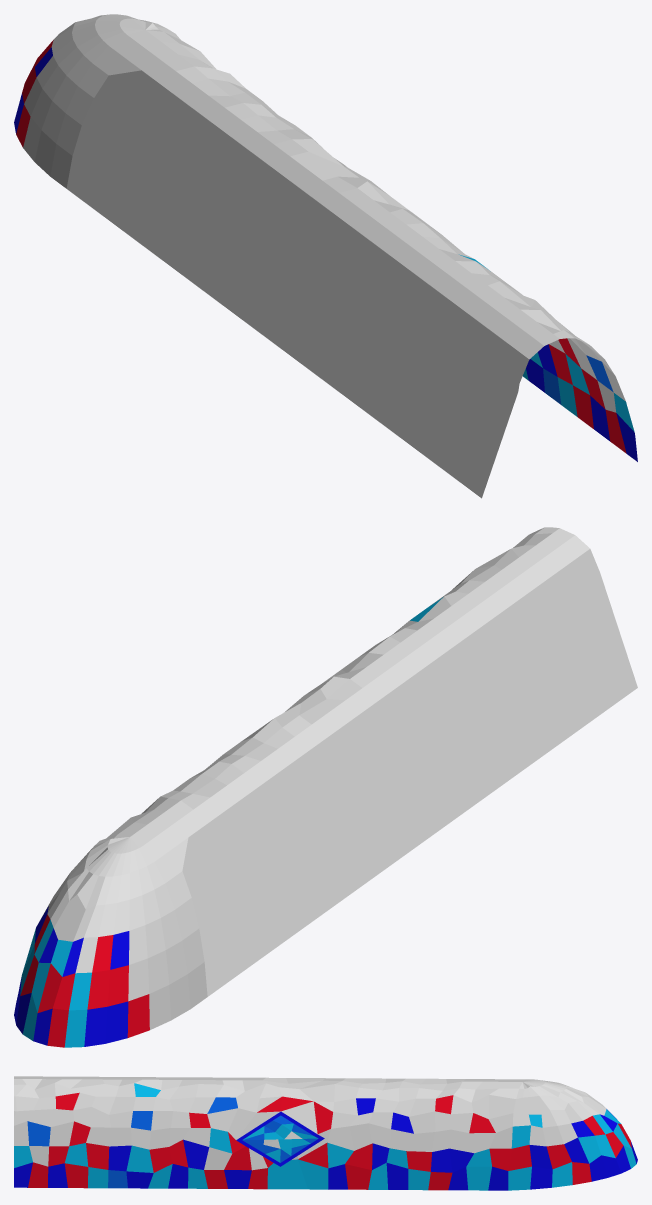
The model's file is ParteAlargadaBaja3.fbx.
3 renders of one model, top to bottom at view 1: azimuth 30°, elevation 25°; view 2: azimuth 150°, elevation 25°; view 3: azimuth 270°, elevation 25°, orthographic. The views are drawn at different scales.
Parts seen in each view (by area): view 1: ParteAlargadaBaja3; view 2: ParteAlargadaBaja3; view 3: ParteAlargadaBaja3.
Part boxes in pixels (left/top/right/bottom): ParteAlargadaBaja3: left=14, top=14, right=637, bottom=498; ParteAlargadaBaja3: left=14, top=527, right=637, bottom=1047; ParteAlargadaBaja3: left=14, top=1076, right=637, bottom=1190.
Size of the model in its own units: 97.23 by 82.26 by 534.
